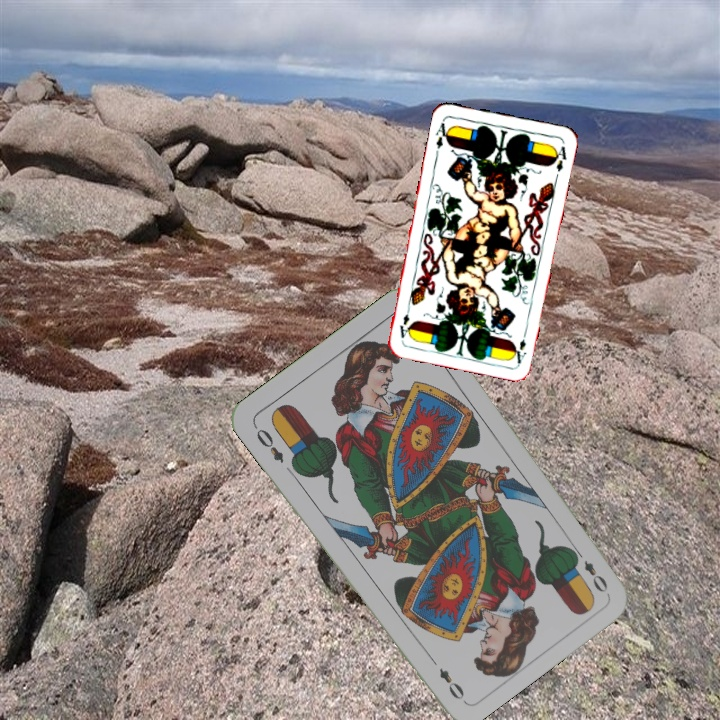EA: (508, 325, 530, 366), (431, 116, 453, 151)
EO: (569, 544, 611, 596), (249, 421, 287, 466)
